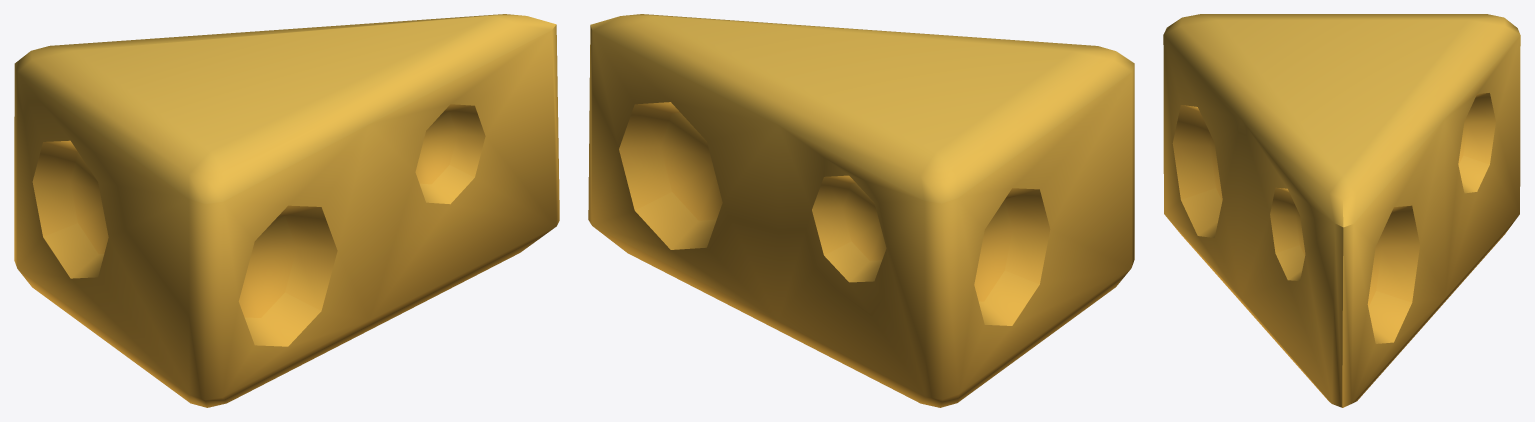
The model's file is Cheese_.fbx.
The picture shows the model from 3 angles, left to right: view 1: azimuth 30°, elevation 25°; view 2: azimuth 150°, elevation 25°; view 3: azimuth 270°, elevation 25°; orthographic projection. The views are drawn at different scales.
Parts seen in each view (by area): view 1: Cheese; view 2: Cheese; view 3: Cheese.
Part boxes in pixels (box(x1,y1,x2,y2)): Cheese: box(14, 14, 559, 407); Cheese: box(588, 14, 1134, 407); Cheese: box(1163, 14, 1520, 407).
Bounding box in the file's own units: 9766 × 5000 × 7220.
